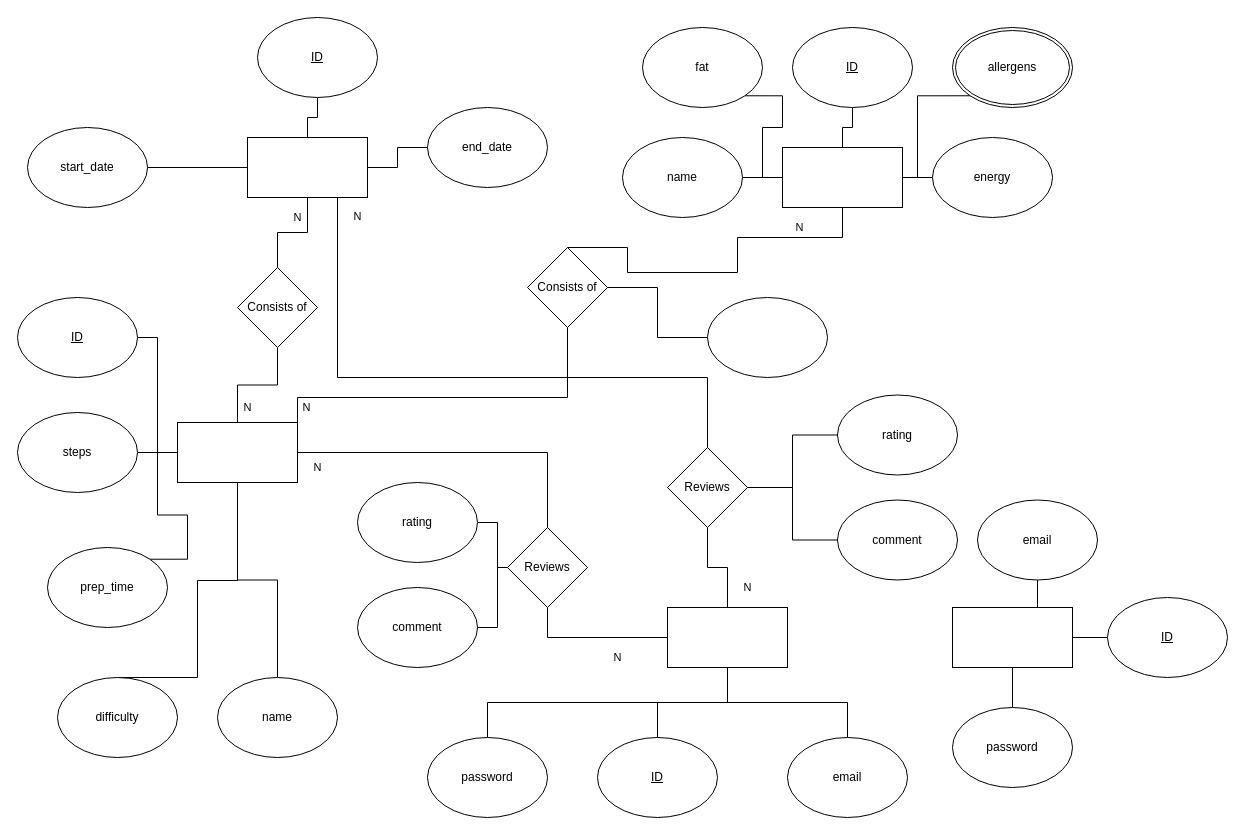
The diagram is 1245 pixels wide and 835 high, and some of its shapes have lost their labels. The box of each missing label's shape, as (x1, y1, x2, y2) in pixels:
Admin: (952, 606, 1072, 668)
Customer: (666, 606, 788, 668)
Ingredient: (782, 146, 902, 208)
measurement: (706, 296, 828, 378)
Menu: (246, 136, 368, 198)
Recipe: (176, 422, 298, 482)
